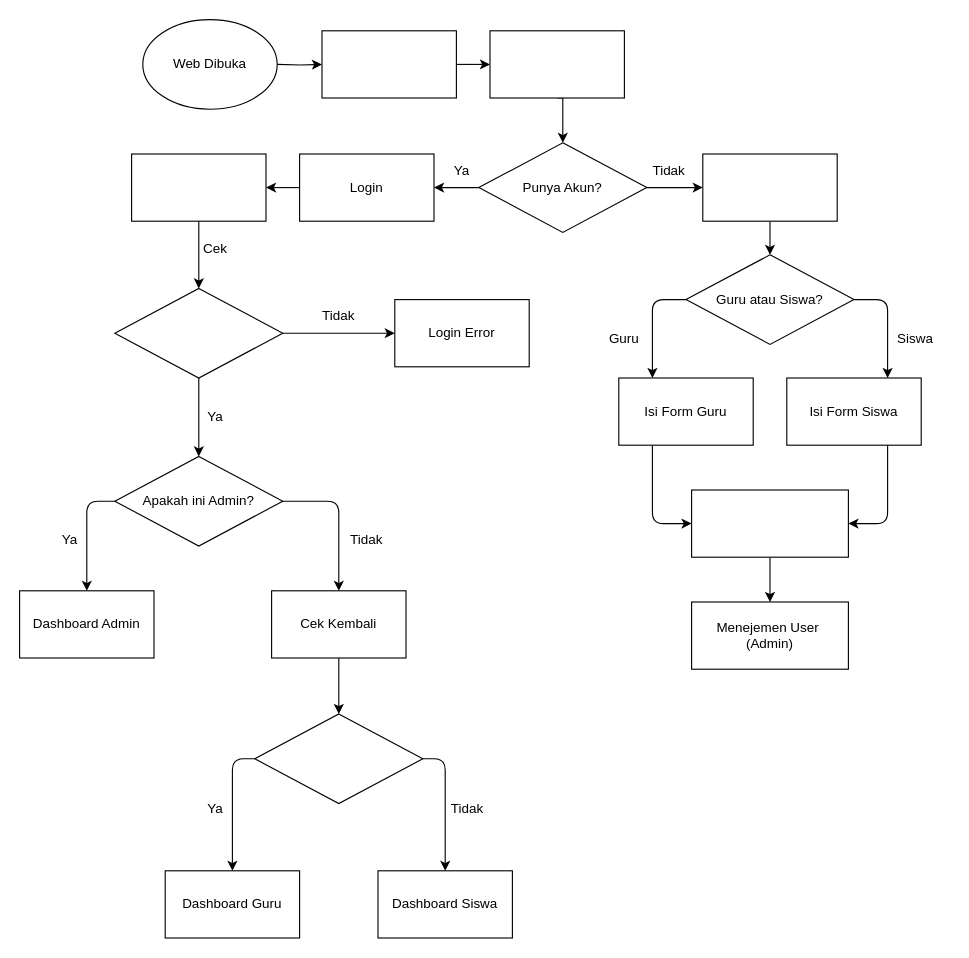
This 969x958 diagram has some shape labels left out. Here are the shapes that lost their labels. From the top down, the centre of each, then its label:
At (388,64): "Halaman Utama Web".
At (556,64): "Halaman Login".
At (198,187): "Isi Form".
At (769,187): "Registrasi".
At (198,332): "Login Disetujui?".
At (769,523): "Menunggu Persetujuan (Admin)".
At (338,758): "Apakah ini Guru?".
